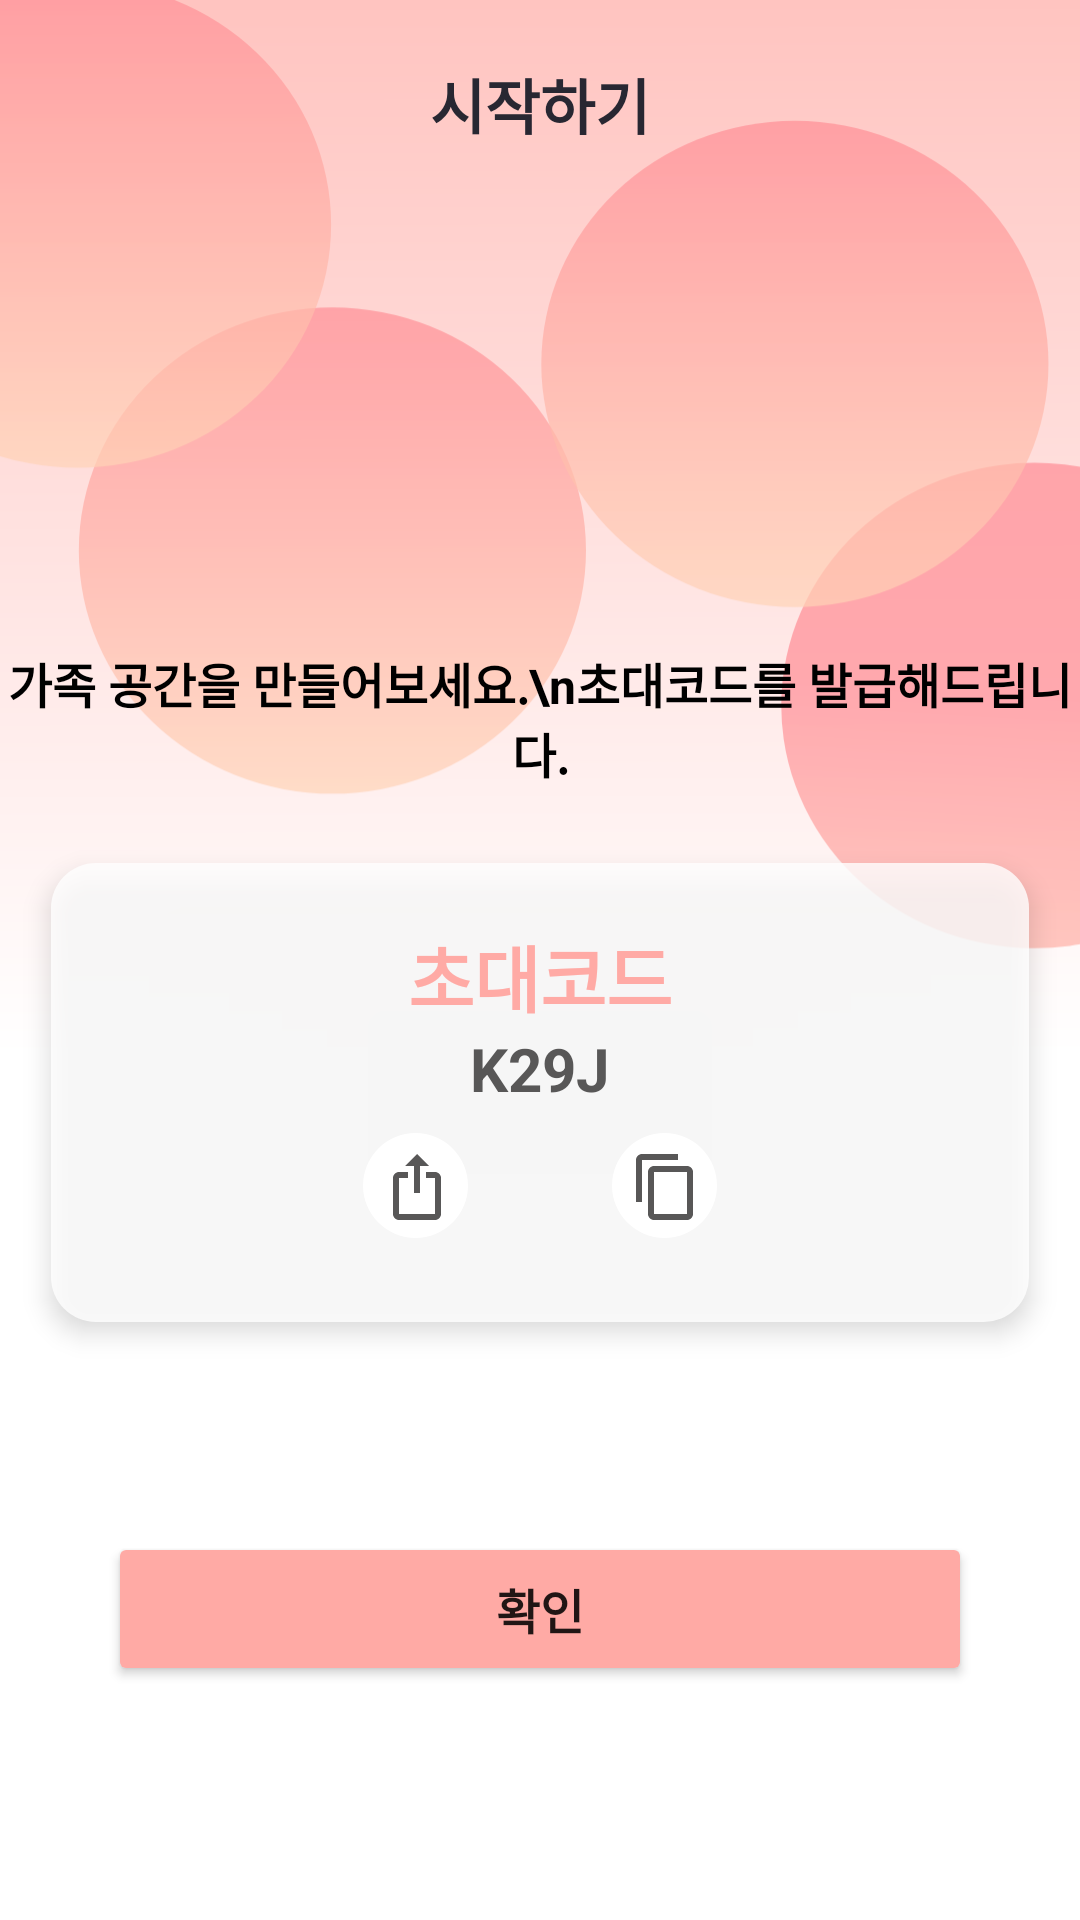

Where to tap for icons on this 1080*1920 app screen, as [x,y]:
share: [415,1185]
